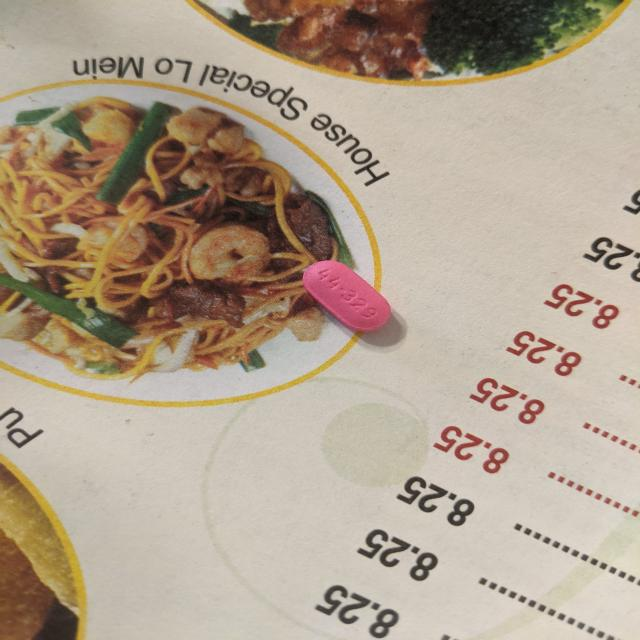non-organic waste: (301, 259, 392, 333)
